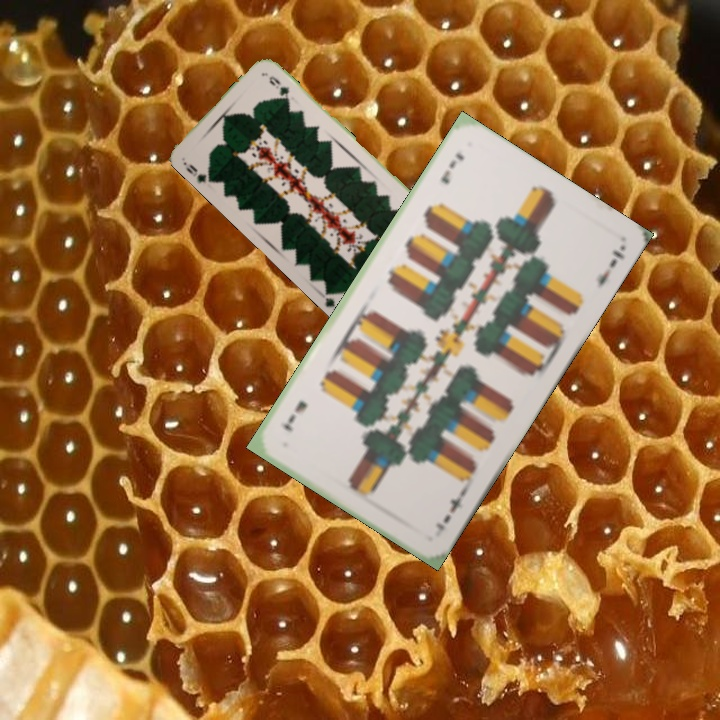E7: (431, 486, 469, 534), (436, 148, 467, 187)
G9: (182, 160, 217, 186)
